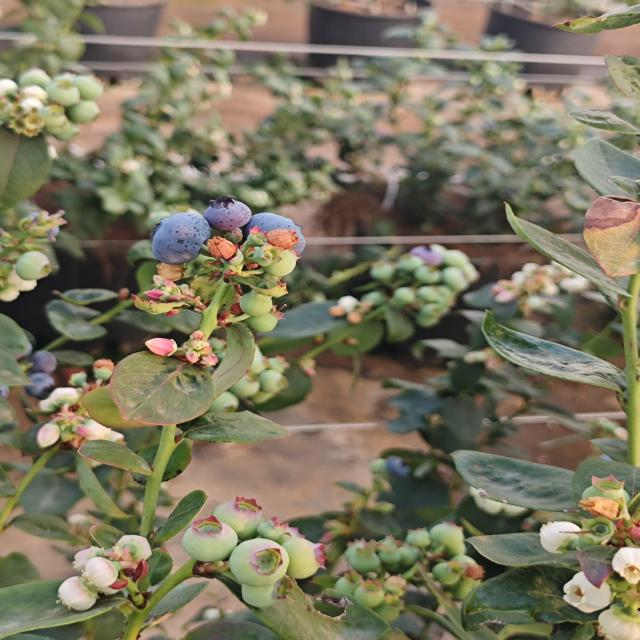ripe: (143, 205, 211, 264), (22, 345, 73, 397), (243, 211, 306, 248), (206, 193, 253, 232), (406, 238, 451, 267)
